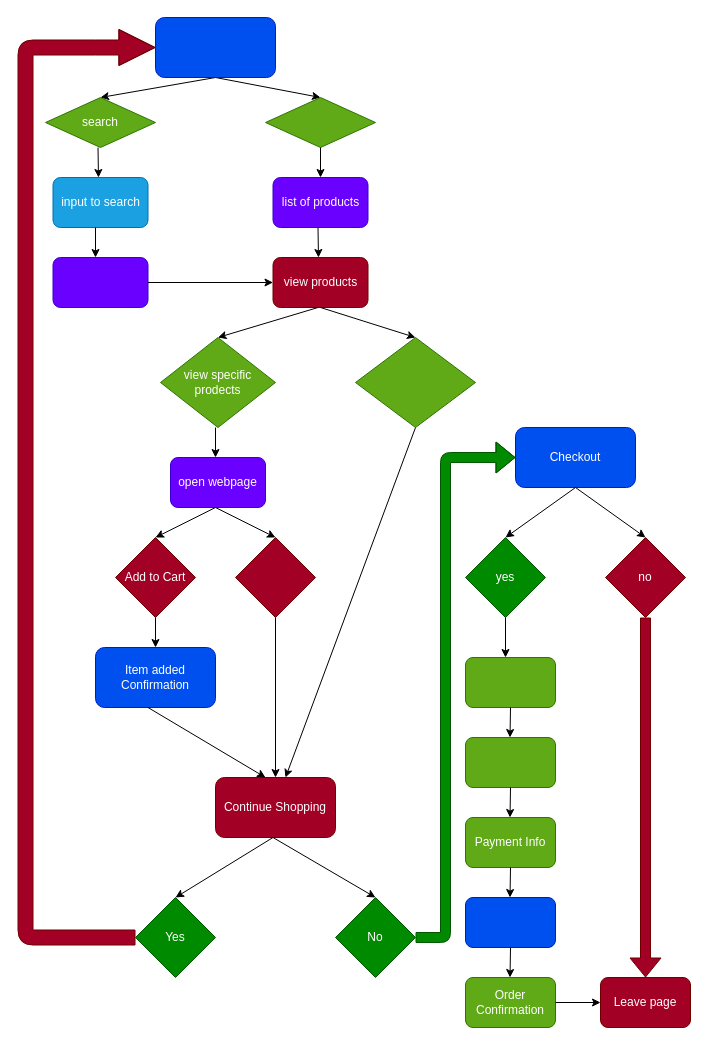
This 708x1045 diagram has some shape labels left out. Here are the shapes that lost their labels. From the top down, the centre of each, then its label:
At point 215,47: "Start".
At point 320,122: "Explore Products".
At point 100,282: "listed products".
At point 415,382: "dont view specific prodects".
At point 275,577: "Not add to Cart".
At point 510,682: "View Cart Screen".
At point 510,762: "View Payment Screen".
At point 510,922: "Paid".
